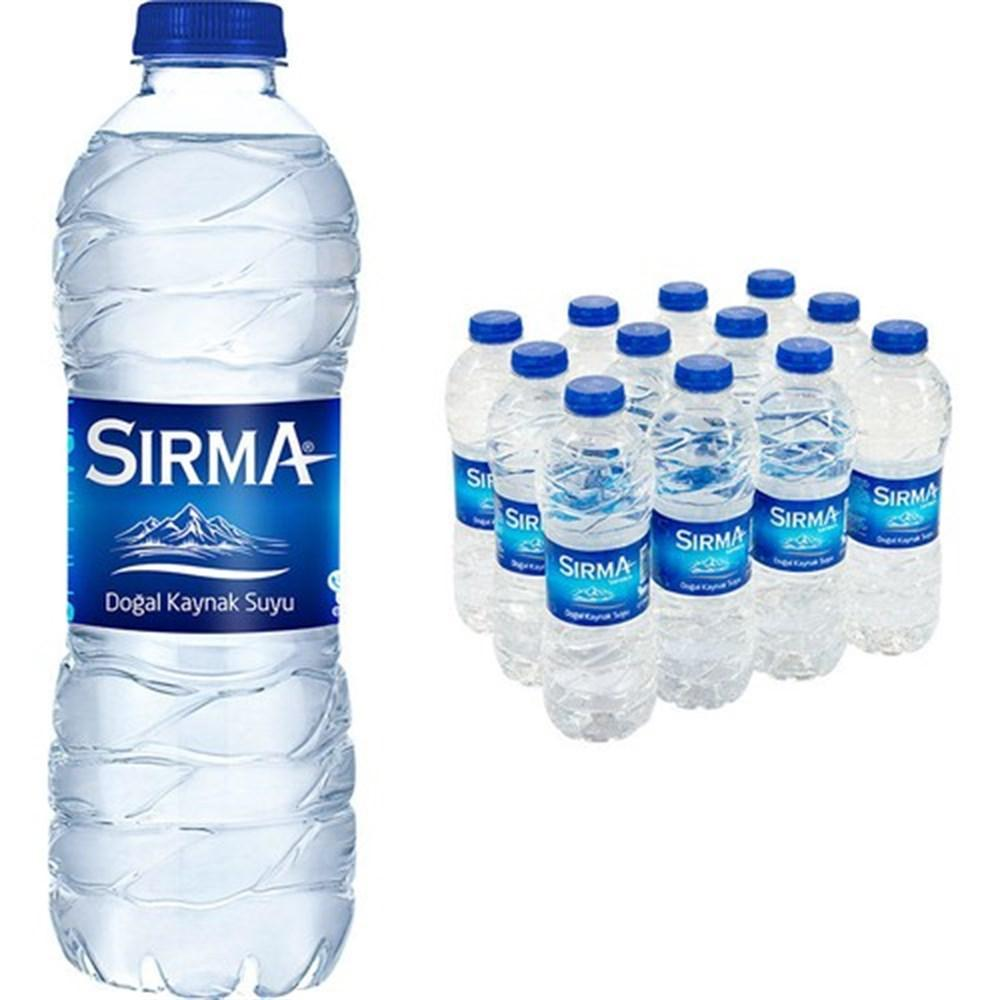bottle: (33, 0, 378, 1000), (534, 362, 652, 762), (660, 353, 755, 725), (753, 332, 850, 696), (855, 322, 956, 671), (430, 298, 517, 655), (493, 329, 561, 699)
